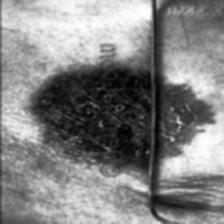Unclassified: (119, 60, 202, 176), (22, 46, 96, 176)
